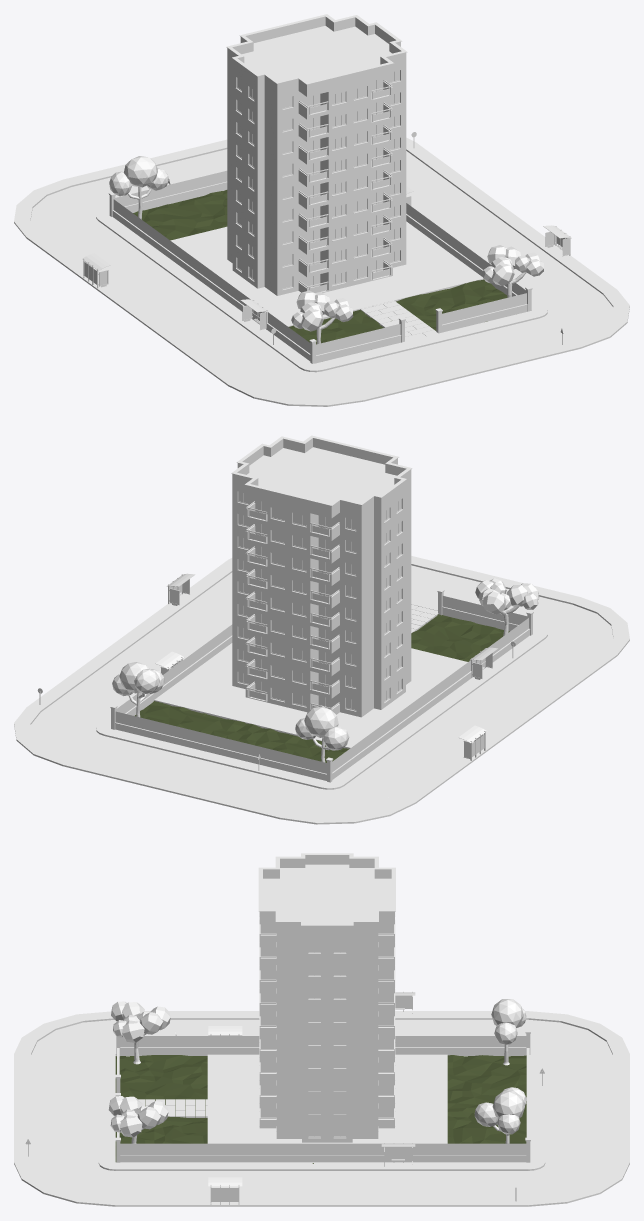
3 views of the same model, one above another, from view 1: azimuth 30°, elevation 25°; view 2: azimuth 150°, elevation 25°; view 3: azimuth 270°, elevation 25° (orthographic). The views are drawn at different scales.
Visible parts, largest first — view 1: Plane.011; view 2: Plane.011; view 3: Plane.011.
Boxes of the visible parts, x1,y1,x2,y2 form: Plane.011: [14, 14, 629, 406]; Plane.011: [14, 435, 629, 824]; Plane.011: [14, 853, 629, 1206].
Size of the model in its own units: 54.23 by 28.66 by 72.71.
Materials: 11 (1 with a texture image).
